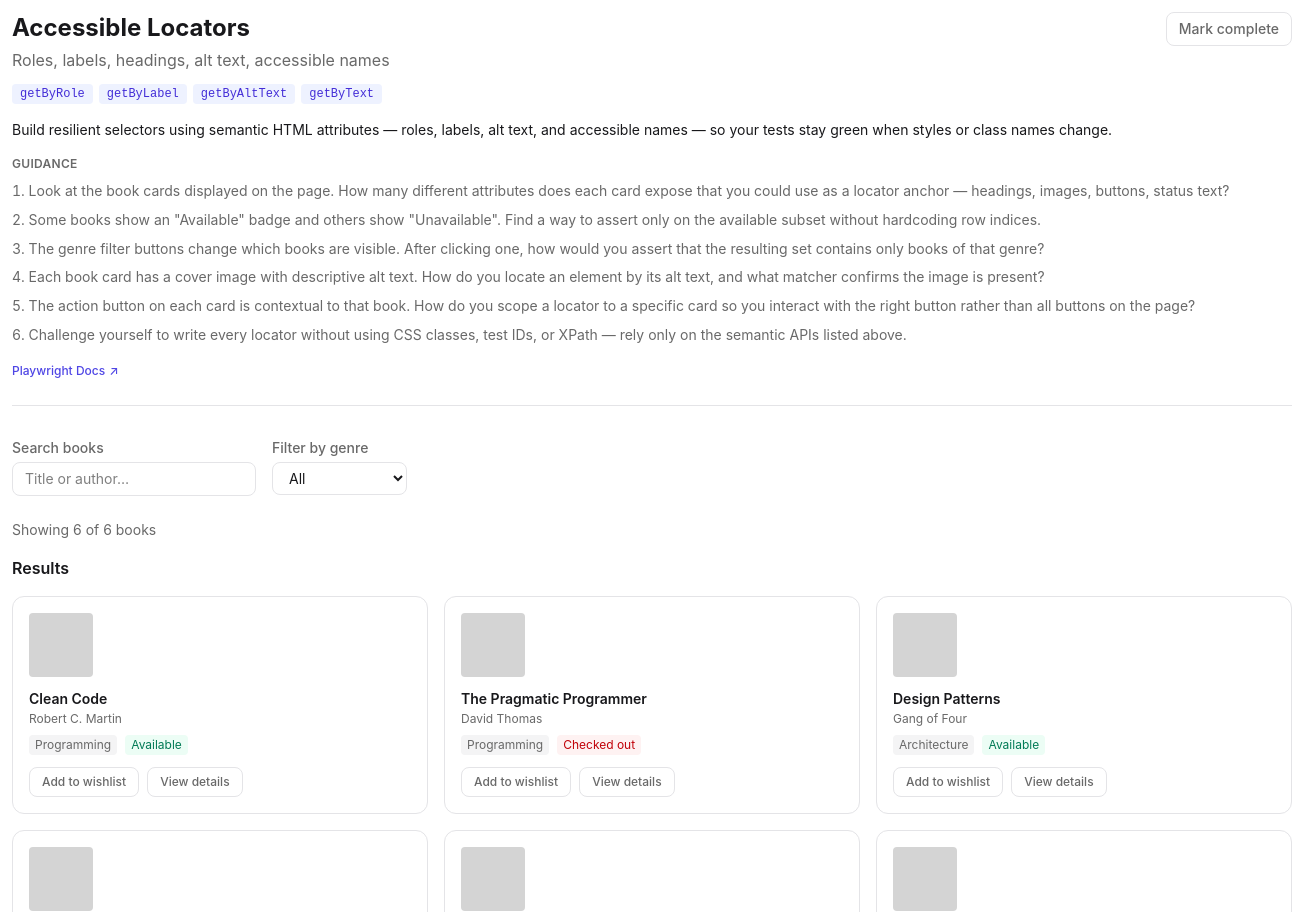
Test: AccessibleLocators › shows an empty state when no books match
Step 1. Type "nonexistent xyz" into the field labelled "Search books" → (134, 478), box [12, 462, 256, 496]
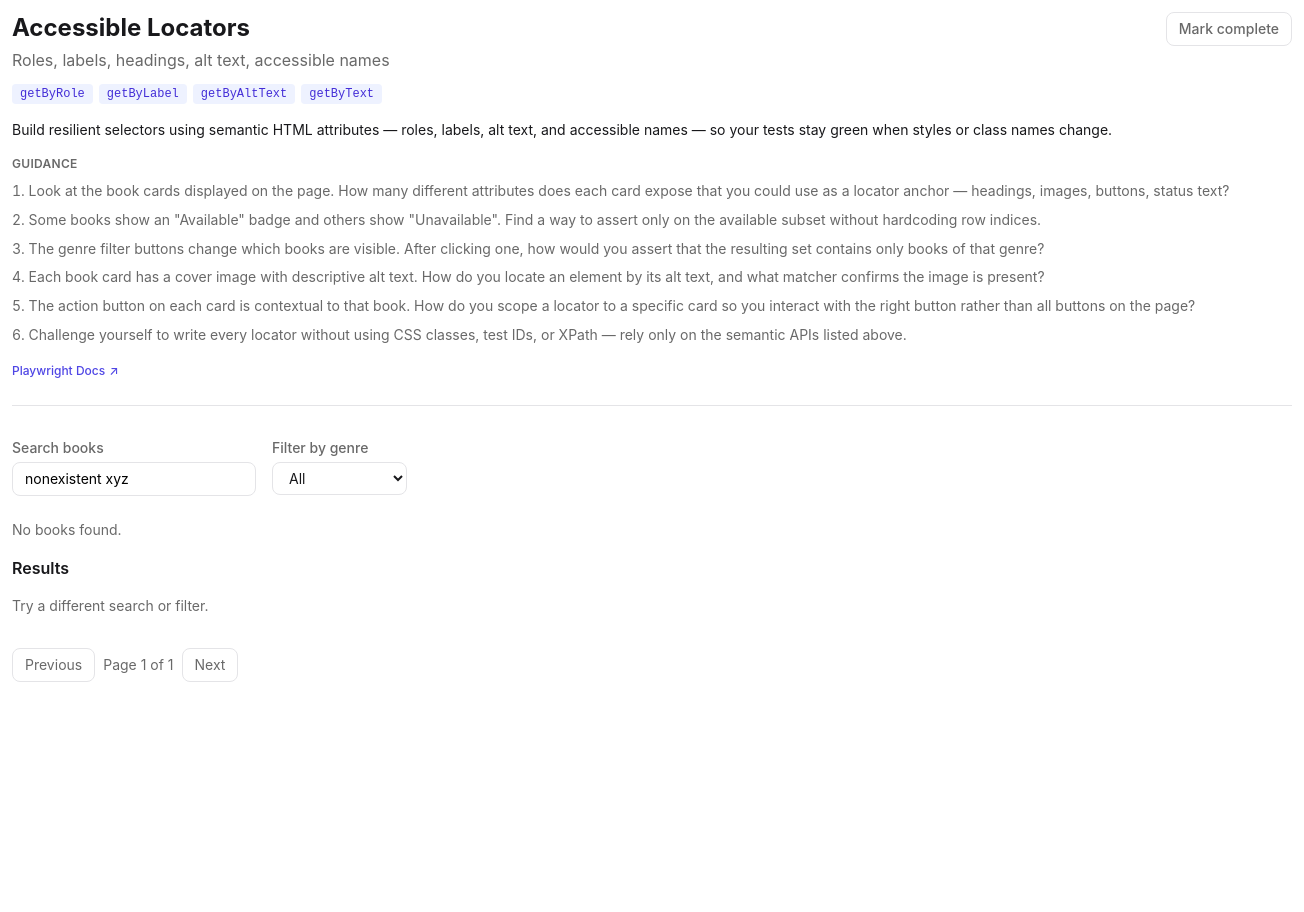
Check: the message reads "No books found.", box [12, 520, 122, 538]
Check: the text "Try a different search or filter." is shown, box [12, 596, 208, 614]
